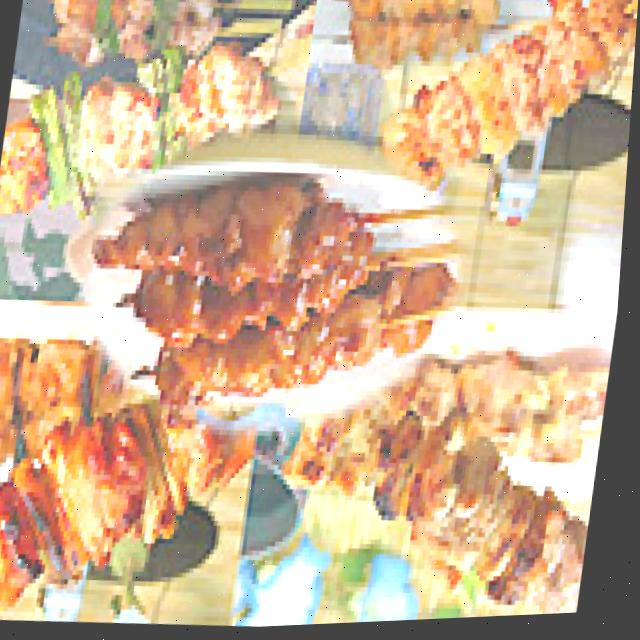烧串烤肉: (107, 153, 445, 443)
